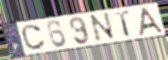6: (46, 19, 67, 49)
9: (68, 15, 91, 46)
A: (138, 6, 165, 37)
C: (20, 23, 47, 51)
N: (88, 12, 118, 44)
T: (113, 10, 132, 38)
